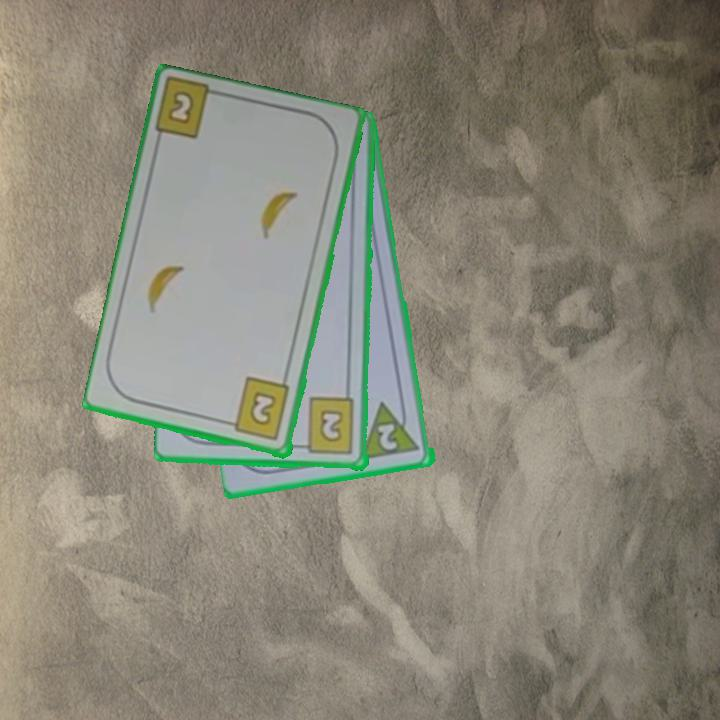2b: (222, 375, 293, 444), (295, 396, 358, 457), (164, 87, 198, 128)
2p: (359, 396, 423, 463)
